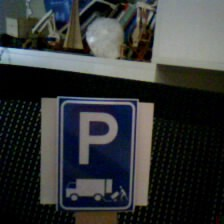load: (49, 87, 147, 215)
